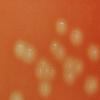white: (82, 72, 100, 98), (12, 38, 28, 61), (69, 27, 84, 48), (38, 78, 53, 98), (55, 17, 70, 36), (87, 44, 100, 64), (63, 69, 77, 87), (61, 56, 76, 72), (44, 62, 57, 80), (72, 59, 85, 76), (8, 88, 26, 100), (36, 55, 49, 71), (24, 47, 36, 64), (34, 63, 45, 80), (50, 40, 61, 56), (56, 46, 65, 61)
